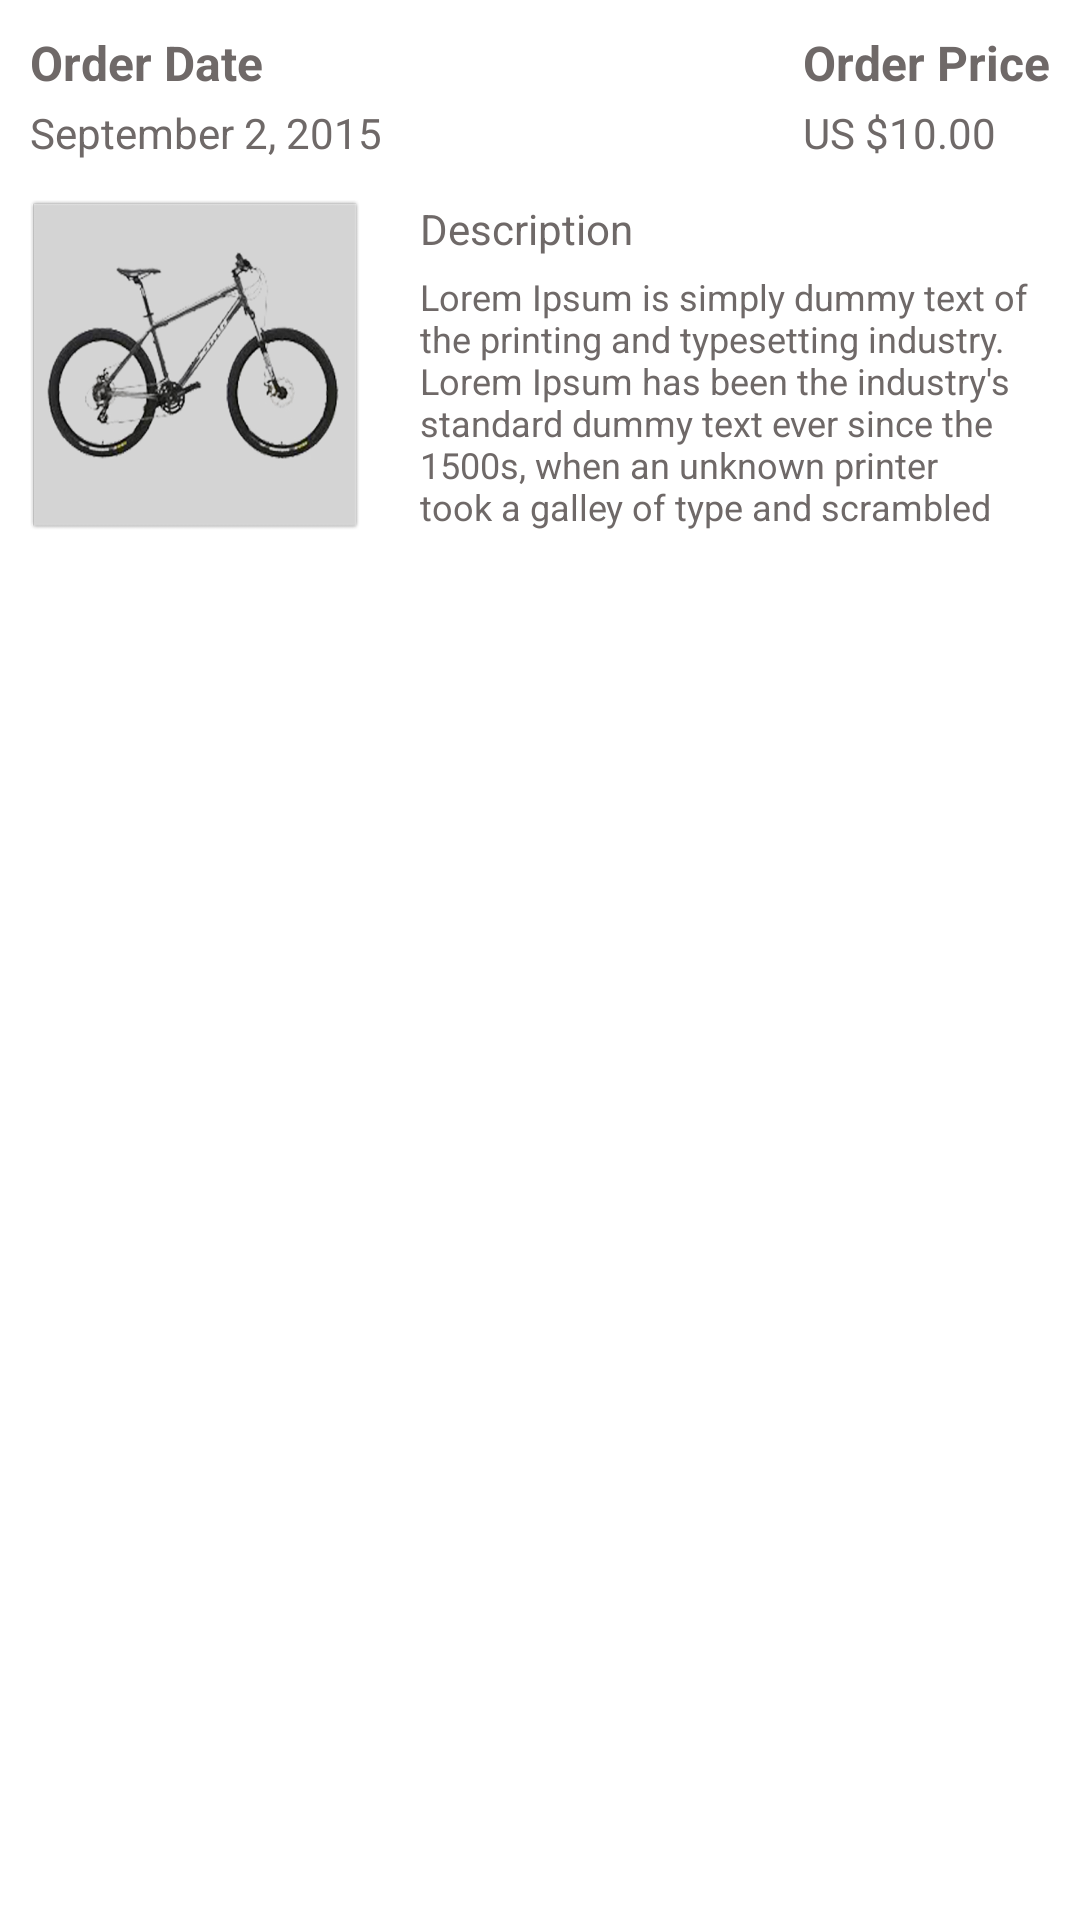

Named icons in this screenshot (1080 x 1920) and their bounding boxes, {"left": x1, "top": y1, "right": x2, "bottom": y2}:
cycle: {"left": 33, "top": 202, "right": 357, "bottom": 527}
